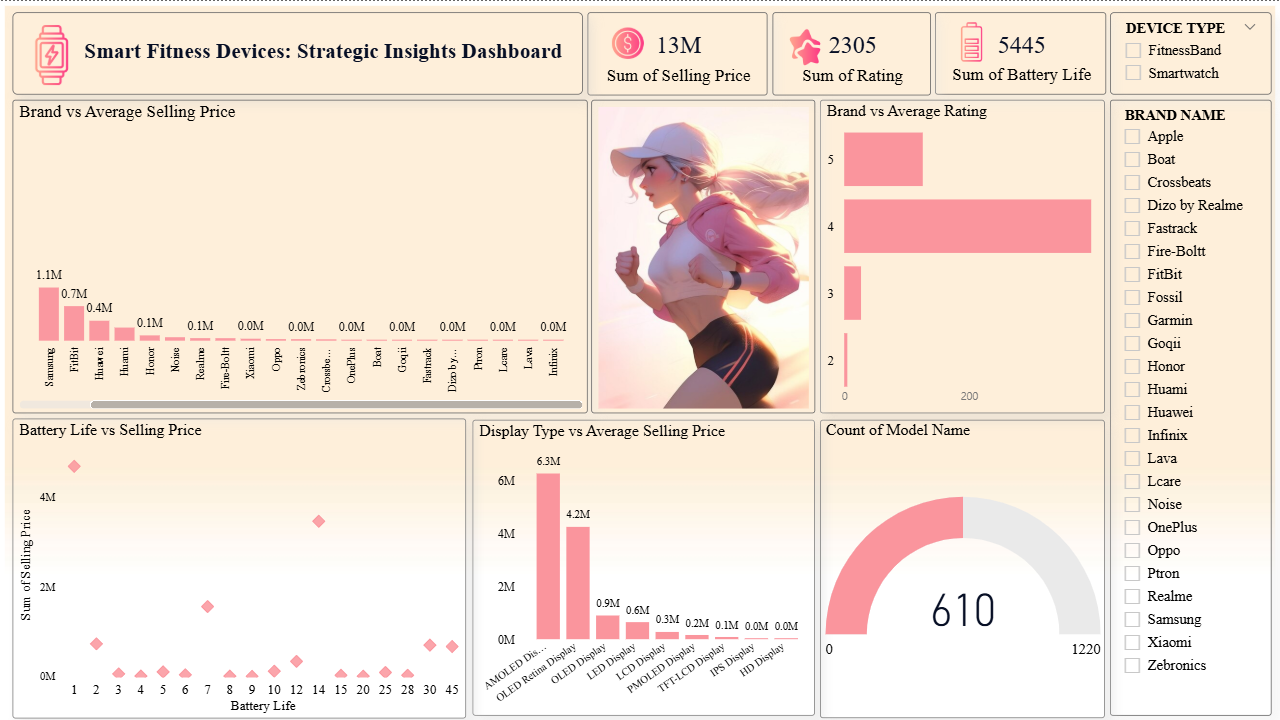

The dashboard page shown, as its layout file describes it:
{"tool":"powerbi","page":{"name":"Page 1","canvas":[1280,720],"ordinal":0},"visuals":[{"type":"image","box":[0,0,1280,720],"z":0},{"type":"card","fields":{"Values":["Sum(Power BI.Selling Price)"]},"box":[587,11,180,83.2],"z":1000},{"type":"card","fields":{"Values":["Sum(Power BI.Average Battery Life (in days))"]},"box":[935,11.2,171.2,82.5],"z":2000},{"type":"card","fields":{"Values":["Sum(Power BI.Rating (Out of 5))"]},"box":[772.8,11,158,83.2],"z":3000},{"type":"slicer","fields":{"Values":["Power BI.Device Type"]},"box":[1110,11.2,161.2,82.5],"z":4000},{"type":"slicer","fields":{"Values":["Power BI.Brand Name"]},"box":[1110,98.8,161.2,616.2],"z":5000},{"type":"textbox","box":[12.5,11.2,570,82.5],"z":9000},{"type":"columnChart","title":"Brand vs Average Selling Price","fields":{"Category":["Power BI.Brand Name"],"Y":["Sum(Power BI.Selling Price)"]},"box":[12.5,98.8,575,313.8],"z":10000},{"type":"barChart","title":"Brand vs Average Rating","fields":{"Y":["CountNonNull(Power BI.Brand Name)"],"Category":["Power BI.Rating"]},"box":[820,98.8,285,313.8],"z":11000},{"type":"clusteredColumnChart","title":"Display Type vs Average Selling Price","fields":{"Category":["Power BI.Display"],"Y":["Sum(Power BI.Selling Price)"]},"box":[472.5,418.8,342.5,296.2],"z":12000},{"type":"scatterChart","title":"Battery Life vs Selling Price","fields":{"Y":["Sum(Power BI.Selling Price)"],"X":["Power BI.Battery Life"]},"box":[12.5,417.5,453.8,300],"z":13000},{"type":"gauge","fields":{"Y":["CountNonNull(Power BI.Model Name)"]},"box":[820,418.8,285,298.8],"z":14000},{"type":"image","box":[591.2,98.8,223.8,313.8],"z":14001},{"type":"image","box":[12.5,12.5,78.8,82.5],"z":14002},{"type":"image","box":[778,16,55.3,59.3],"z":14005},{"type":"image","box":[940.7,14,60.7,54.7],"z":14006},{"type":"image","box":[604.5,16.4,45.5,51.8],"z":14007}]}

Visuals, with their boxes in screenshot pixels (x1, y1, x2, y2), scaled from the page's 1280x720 canvas onto the 1280x720 screenshot:
image: {"x1": 0, "y1": 0, "x2": 1279, "y2": 719}
card - Sum(Power BI.Selling Price): {"x1": 587, "y1": 11, "x2": 767, "y2": 94}
card - Sum(Power BI.Average Battery Life (in days)): {"x1": 935, "y1": 11, "x2": 1106, "y2": 94}
card - Sum(Power BI.Rating (Out of 5)): {"x1": 773, "y1": 11, "x2": 931, "y2": 94}
slicer - Power BI.Device Type: {"x1": 1110, "y1": 11, "x2": 1271, "y2": 94}
slicer - Power BI.Brand Name: {"x1": 1110, "y1": 99, "x2": 1271, "y2": 715}
textbox: {"x1": 12, "y1": 11, "x2": 582, "y2": 94}
"Brand vs Average Selling Price" columnChart: {"x1": 12, "y1": 99, "x2": 588, "y2": 413}
"Brand vs Average Rating" barChart: {"x1": 820, "y1": 99, "x2": 1105, "y2": 413}
"Display Type vs Average Selling Price" clusteredColumnChart: {"x1": 472, "y1": 419, "x2": 815, "y2": 715}
"Battery Life vs Selling Price" scatterChart: {"x1": 12, "y1": 418, "x2": 466, "y2": 718}
gauge - CountNonNull(Power BI.Model Name): {"x1": 820, "y1": 419, "x2": 1105, "y2": 718}
image: {"x1": 591, "y1": 99, "x2": 815, "y2": 413}
image: {"x1": 12, "y1": 12, "x2": 91, "y2": 95}
image: {"x1": 778, "y1": 16, "x2": 833, "y2": 75}
image: {"x1": 941, "y1": 14, "x2": 1001, "y2": 69}
image: {"x1": 604, "y1": 16, "x2": 650, "y2": 68}
